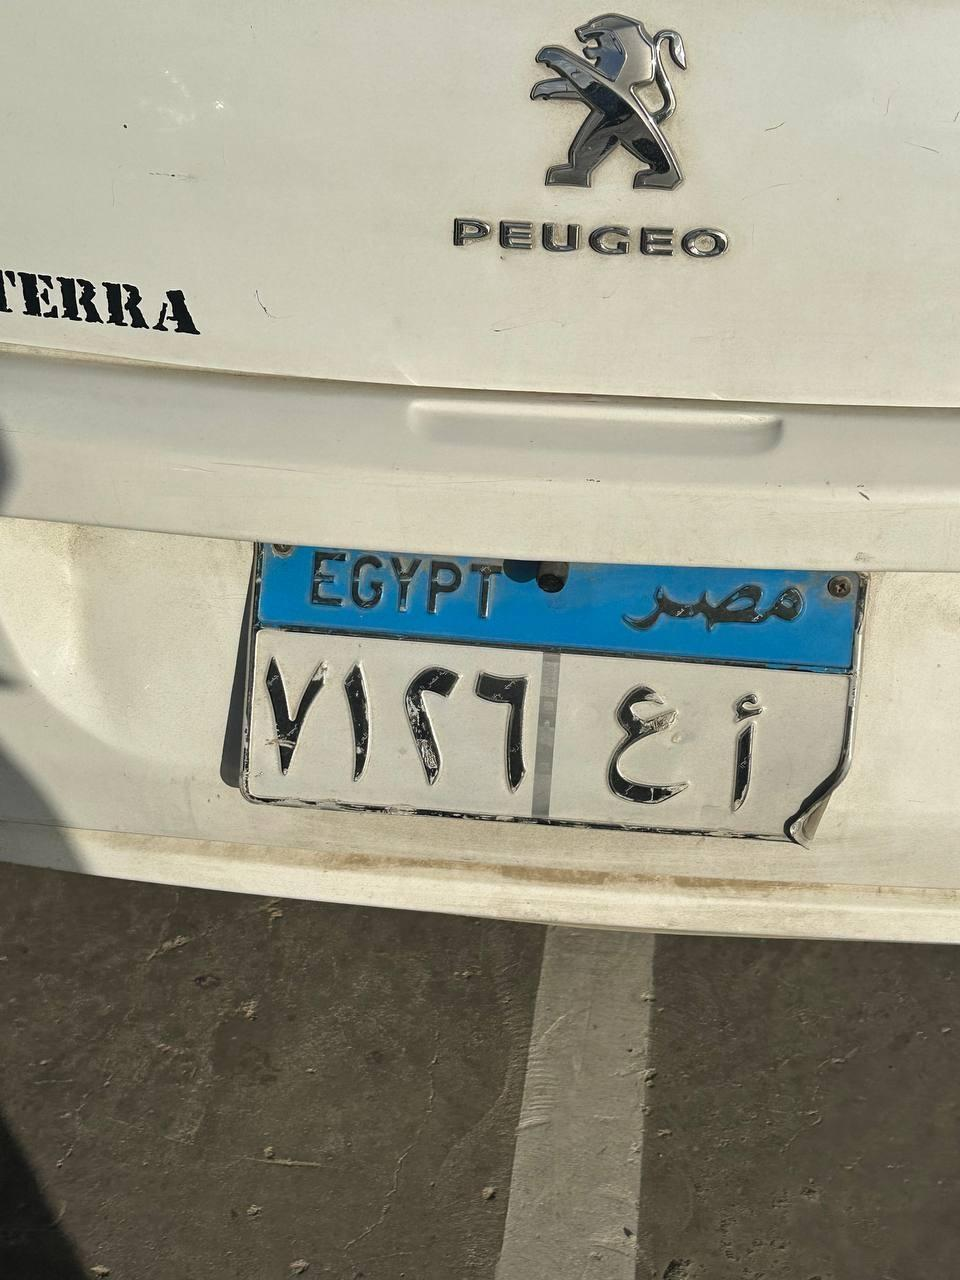1: (341, 654, 372, 784)
2: (402, 660, 453, 791)
6: (464, 663, 537, 793)
7: (258, 654, 326, 777)
Een: (603, 679, 691, 820)
License Plate: (226, 540, 870, 842)
alef: (720, 688, 761, 809)
